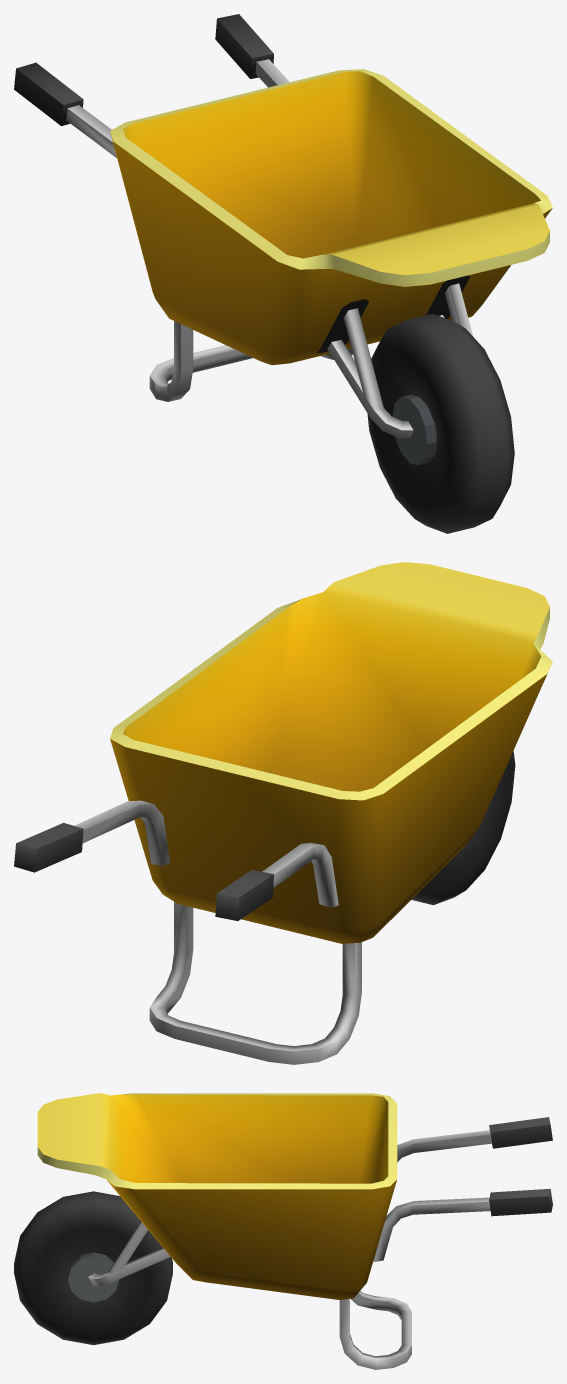
The model's file is Wheelbarow_1A.fbx.
3 renders of one model, top to bottom at view 1: azimuth 30°, elevation 25°; view 2: azimuth 150°, elevation 25°; view 3: azimuth 270°, elevation 25°, orthographic. The views are drawn at different scales.
Visible parts, largest first — view 1: Wheelbarow_1A, Wheelbarrow_1A_Wheel; view 2: Wheelbarow_1A, Wheelbarrow_1A_Wheel; view 3: Wheelbarow_1A, Wheelbarrow_1A_Wheel.
Part boxes in pixels (left/top/right/bottom): Wheelbarow_1A: left=14, top=14, right=552, bottom=437; Wheelbarrow_1A_Wheel: left=367, top=313, right=514, bottom=533; Wheelbarow_1A: left=14, top=562, right=552, bottom=1064; Wheelbarrow_1A_Wheel: left=411, top=751, right=515, bottom=905; Wheelbarow_1A: left=37, top=1093, right=552, bottom=1369; Wheelbarrow_1A_Wheel: left=14, top=1191, right=172, bottom=1345.
Size of the model in its own units: 0.8474 by 0.869 by 2.01.
